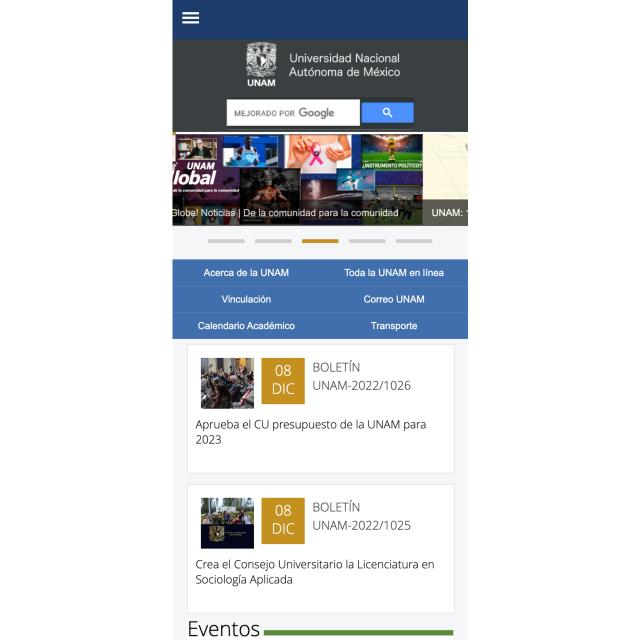logo: (240, 40, 404, 91)
navigation: (172, 258, 468, 340), (181, 10, 200, 25)
